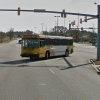Bus: (18, 30, 74, 59)
